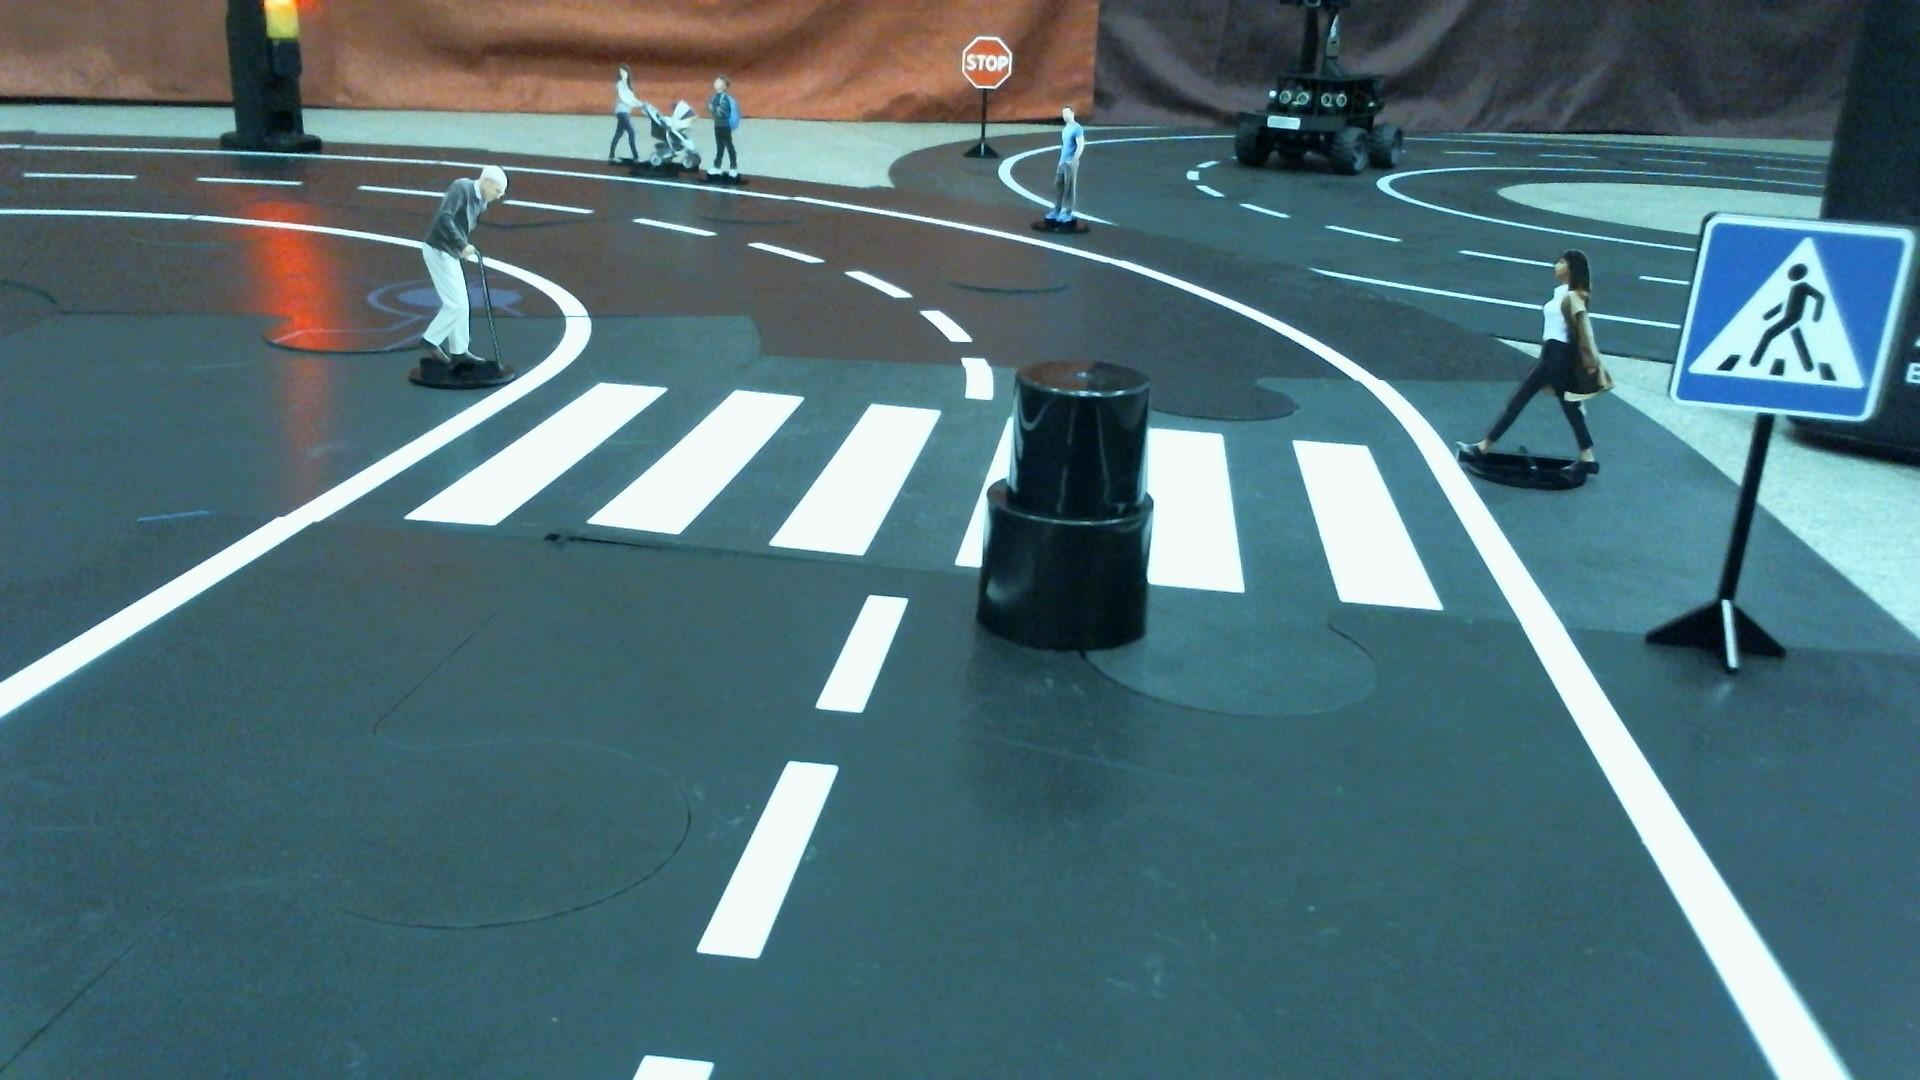barricade: (977, 355, 1160, 655)
crossing: (387, 370, 1518, 627)
person: (1453, 248, 1602, 490), (400, 165, 513, 393), (603, 62, 707, 183), (1038, 103, 1088, 225), (707, 75, 743, 180)
